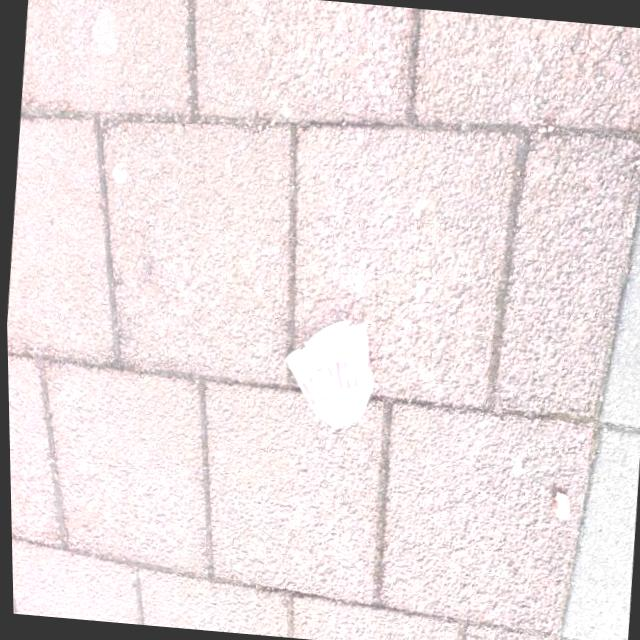Cup: (279, 312, 380, 430)
